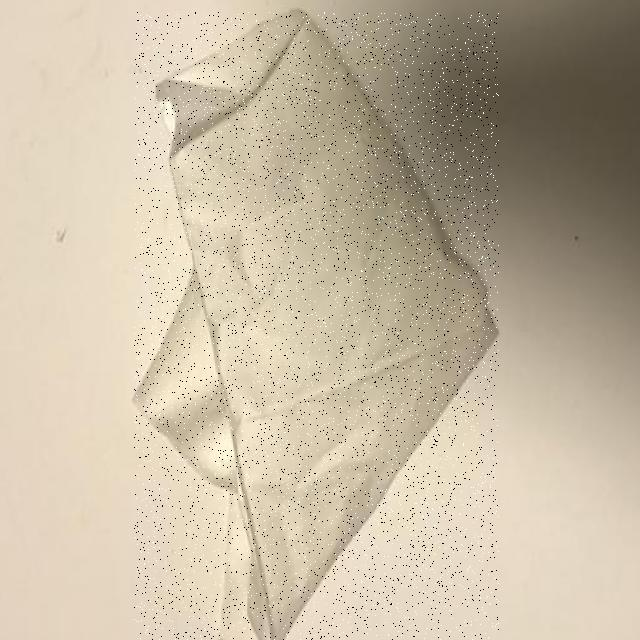paper: (135, 12, 499, 640)
